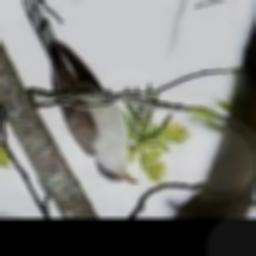Cuckoo: (23, 0, 141, 184)
